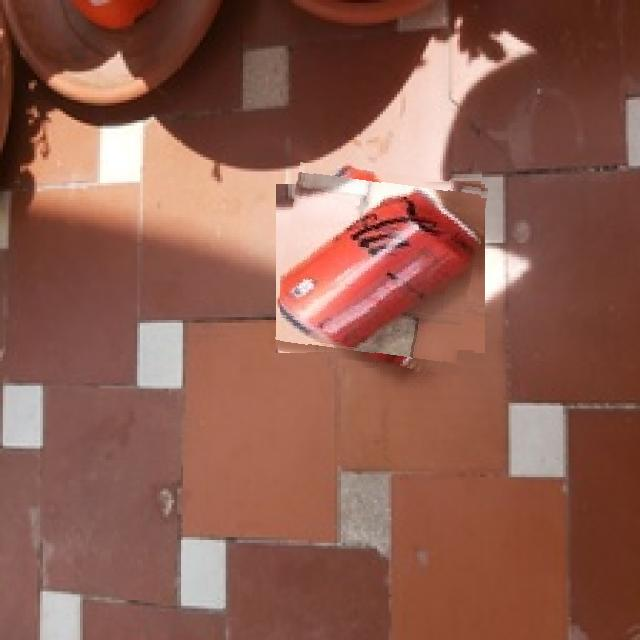recyclable: (280, 168, 482, 369)
